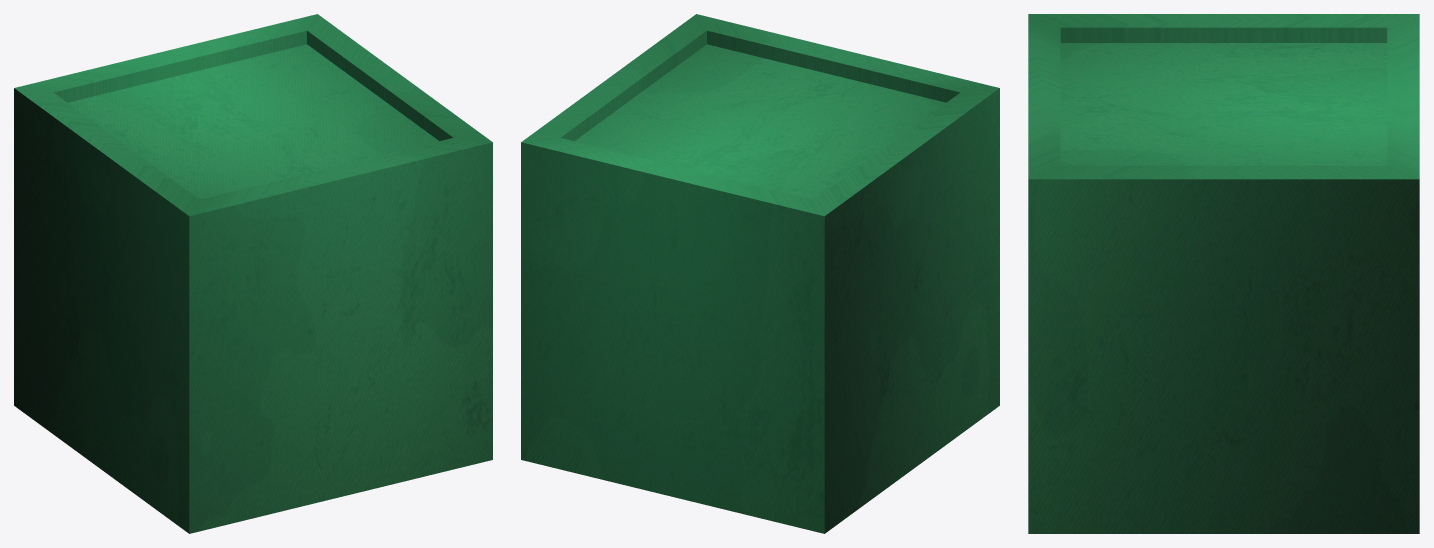
The model's file is IndestructibleTile.fbx.
3 renders of one model, left to right at view 1: azimuth 30°, elevation 25°; view 2: azimuth 150°, elevation 25°; view 3: azimuth 270°, elevation 25°, orthographic. The views are drawn at different scales.
Visible parts, largest first — view 1: pCube1; view 2: pCube1; view 3: pCube1.
Boxes of the visible parts, box(x1,y1,x2,y2) form: pCube1: box(14, 14, 492, 533); pCube1: box(521, 14, 999, 533); pCube1: box(1028, 14, 1419, 533).
Bounding box in the file's own units: 1 × 1 × 1.
Materials: 1 (1 with a texture image).
